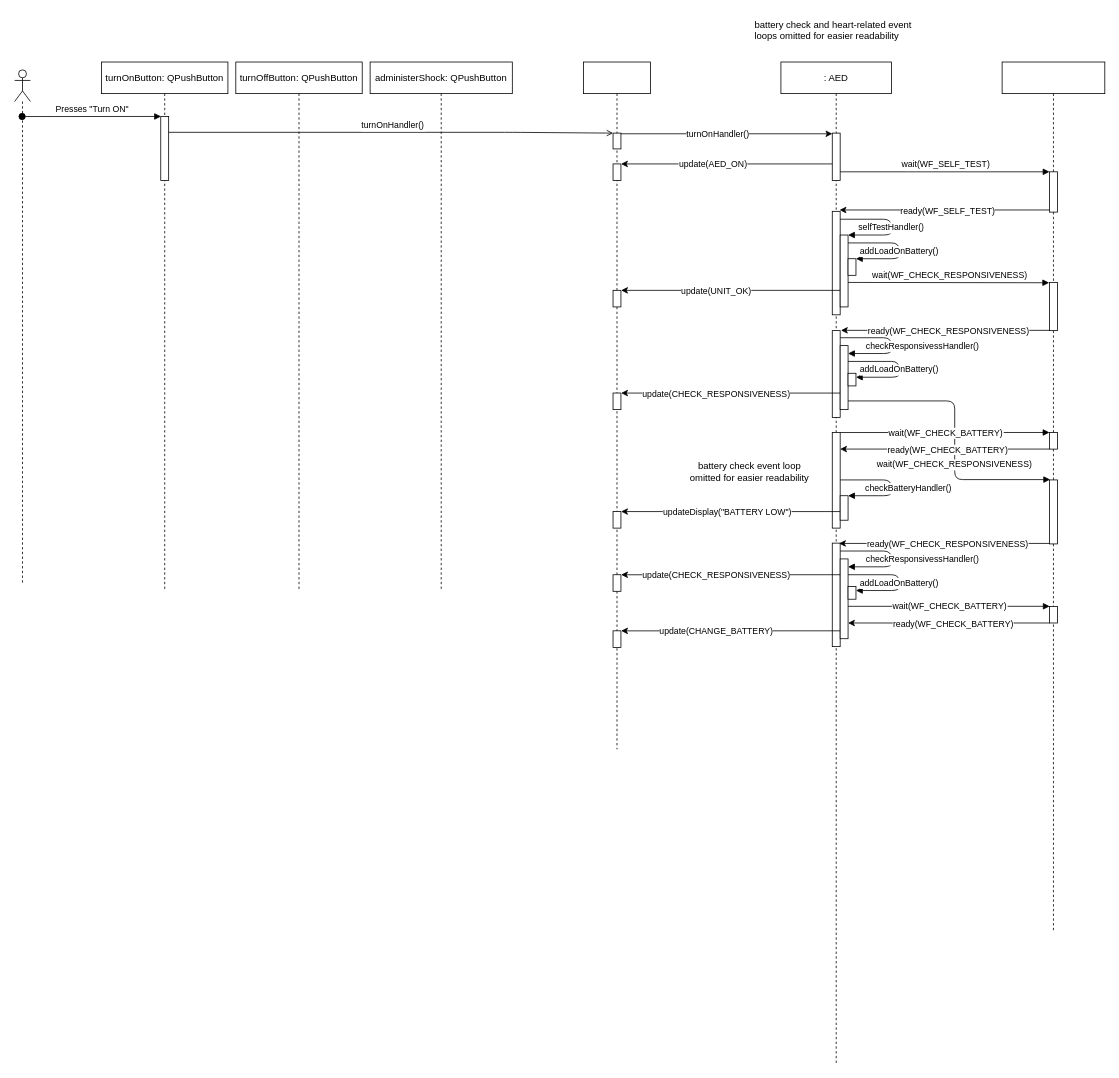
Image size: 1119x1078. Some labels were removed from this diagram. The shapes that lost their labels are listed below. From the top down, each one's centre as x and y in pixels, then its label:
At pixel 617 405: ": MainWindow".
At pixel 1053 495: ": AED Worker".
